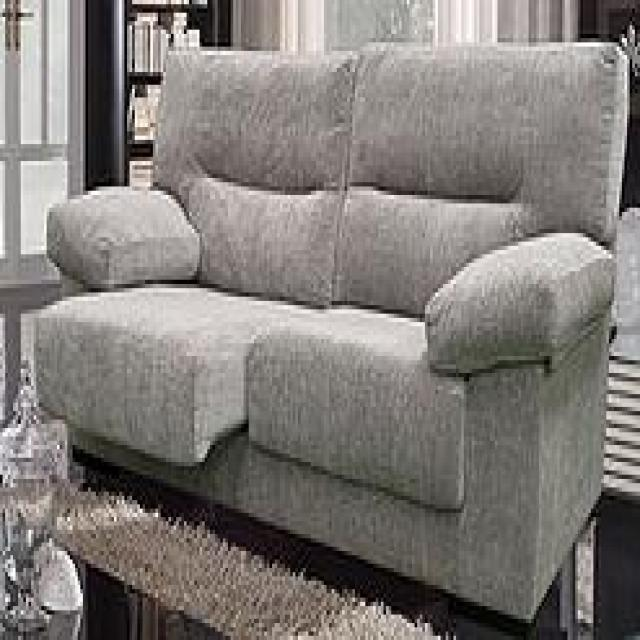sofa: (32, 46, 630, 633)
